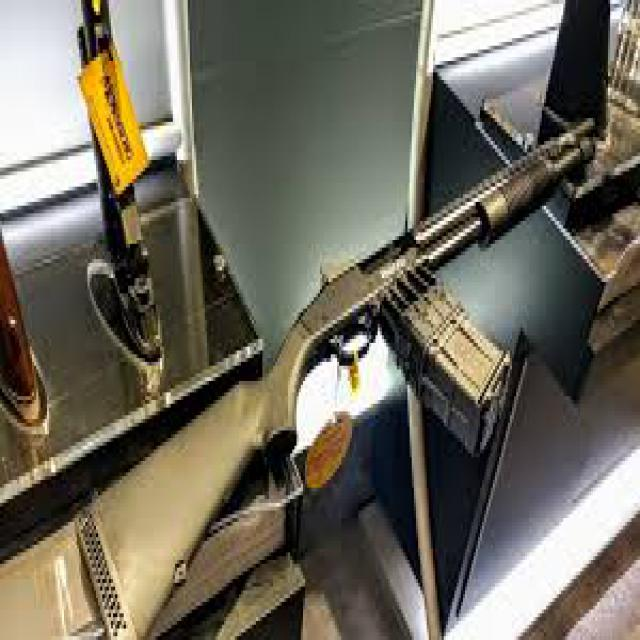long weapon: (65, 94, 624, 640)
